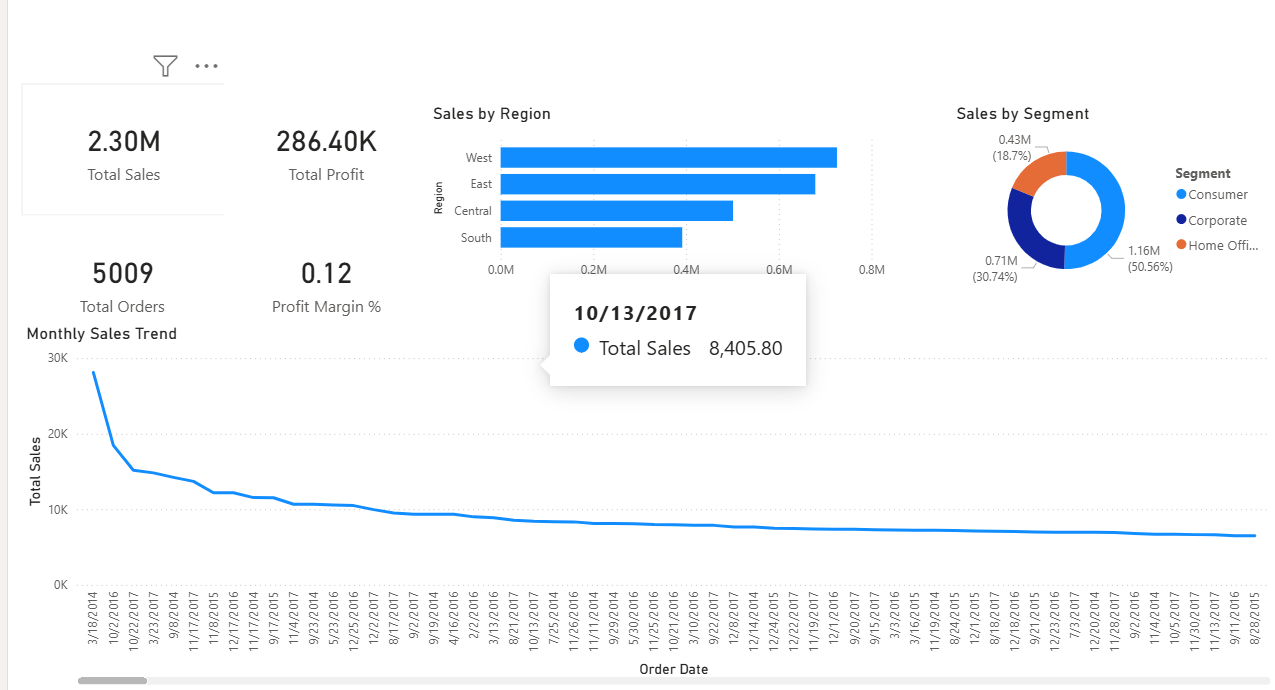

Layout of this report page (visuals, bound fields, positions):
{"tool":"powerbi","page":{"name":"EXECUTIVE OVERVIEW","canvas":[1280,720],"ordinal":0},"visuals":[{"type":"card","fields":{"Values":["Sample - Superstore.Total Sales"]},"box":[13.1,95.9,205.9,133.3],"z":0},{"type":"card","fields":{"Values":["Sample - Superstore.Total Profit"]},"box":[218.6,95.4,205.9,133.3],"z":1000},{"type":"card","fields":{"Values":["Sample - Superstore.Total Orders"]},"box":[12.6,228.6,205.9,133.3],"z":2000},{"type":"card","fields":{"Values":["Sample - Superstore.Profit Margin %"]},"box":[218.6,228.6,205.9,133.3],"z":3000},{"type":"barChart","title":"Sales by Region","fields":{"Category":["Sample - Superstore.Region"],"Y":["Sum(Sample - Superstore.Sales)"]},"box":[424,114.6,466.4,195.3],"z":4000},{"type":"donutChart","title":"Sales by Segment","fields":{"Category":["Sample - Superstore.Segment"],"Y":["Sample - Superstore.Total Sales"]},"box":[952.4,115.1,327.1,195.3],"z":5000},{"type":"lineChart","title":"Monthly Sales Trend","fields":{"Category":["Sample - Superstore.Order Date"],"Y":["Sample - Superstore.Total Sales"]},"box":[13.6,337.7,1265.9,369.5],"z":6000}]}

Visuals, with their boxes on the page's 1280x720 design canvas (x1, y1, x2, y2). These are canvas units, not pixel positions in the 1275x690 screenshot, which may show the page scaled, cropped or inside an application window:
card - Sample - Superstore.Total Sales: select_region(13, 96, 219, 229)
card - Sample - Superstore.Total Profit: select_region(219, 95, 424, 229)
card - Sample - Superstore.Total Orders: select_region(13, 229, 218, 362)
card - Sample - Superstore.Profit Margin %: select_region(219, 229, 424, 362)
"Sales by Region" barChart: select_region(424, 115, 890, 310)
"Sales by Segment" donutChart: select_region(952, 115, 1280, 310)
"Monthly Sales Trend" lineChart: select_region(14, 338, 1280, 707)
